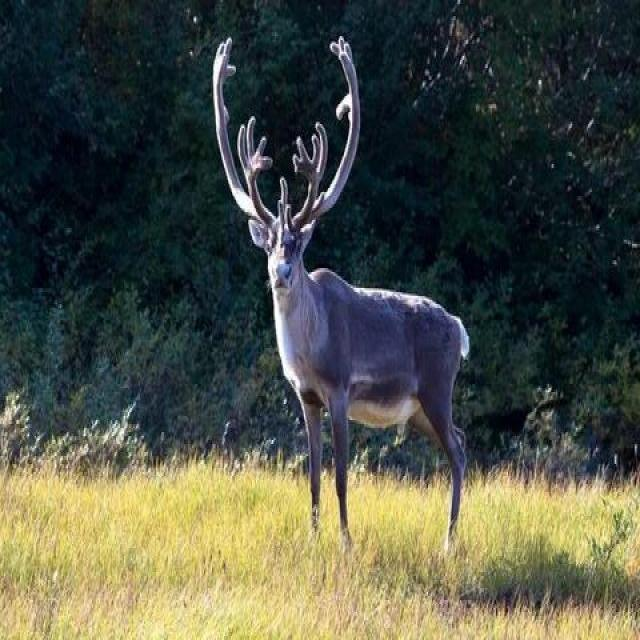deer: (175, 116, 550, 589)
